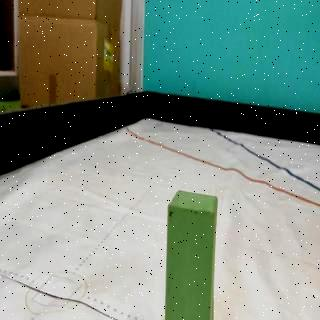greenbox: (164, 187, 218, 320)
